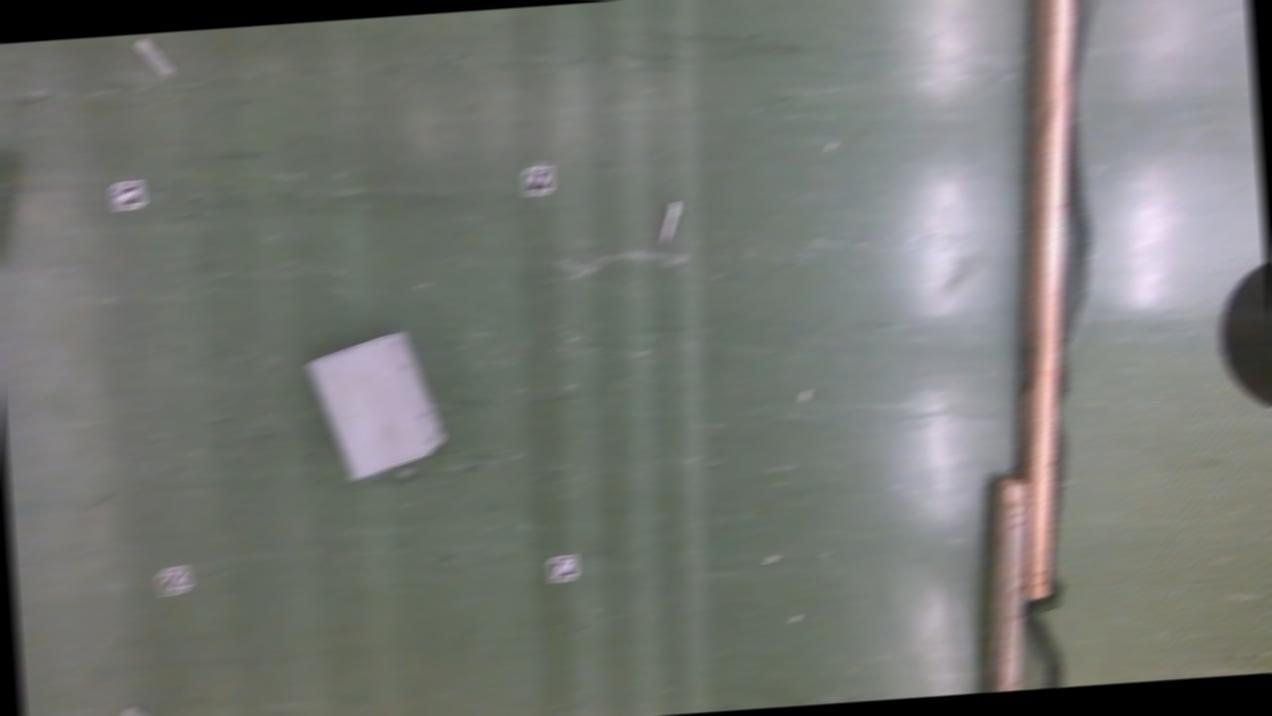probes: (136, 34, 174, 77), (659, 199, 682, 241)
rako: (304, 326, 448, 481)
